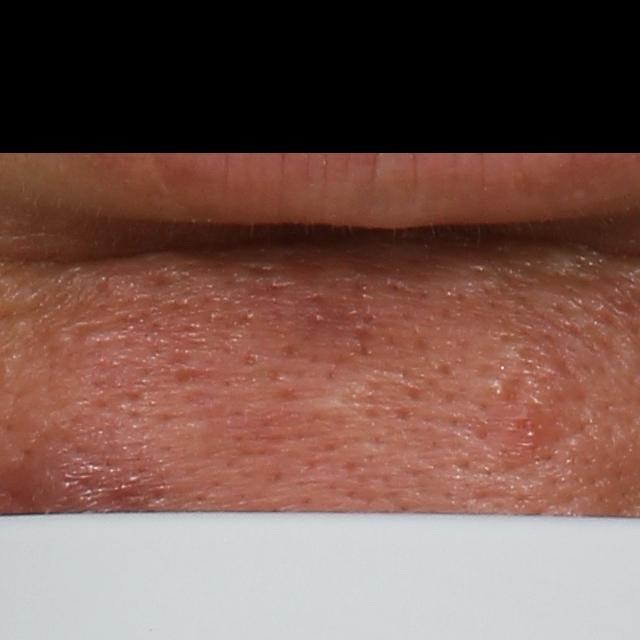comedo: (482, 372, 520, 410), (240, 348, 261, 372)
hypertrophic_scar: (302, 364, 390, 424)
